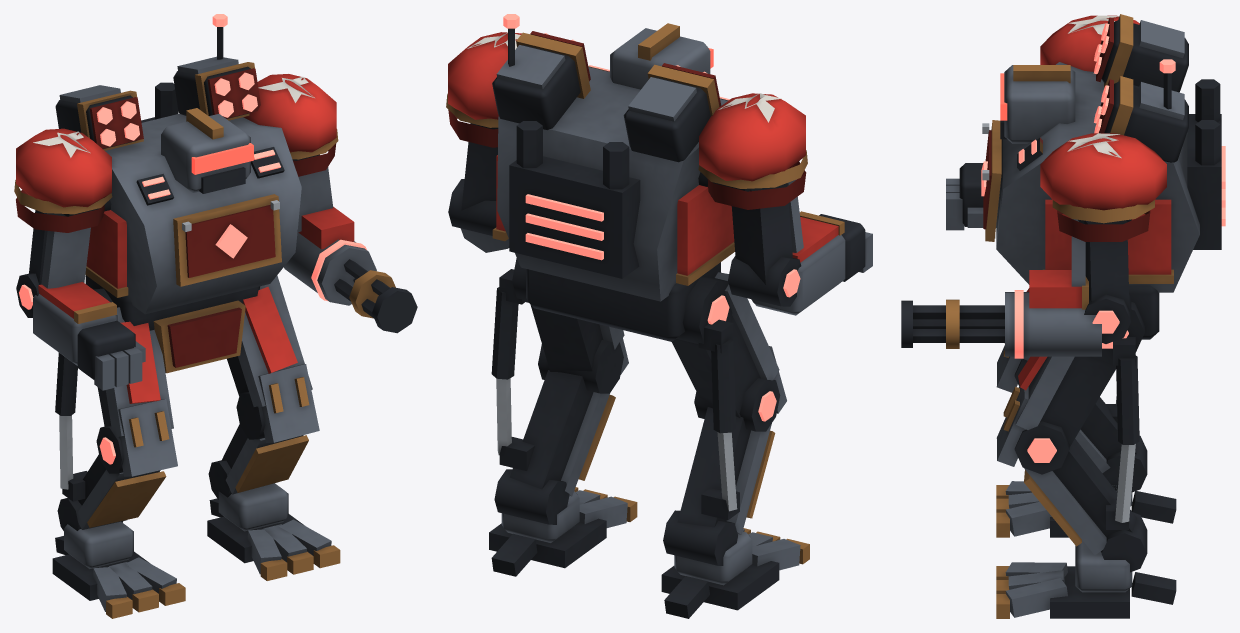
Rendered from mech_red.glb.
3 renders of one model, left to right at view 1: azimuth 30°, elevation 25°; view 2: azimuth 150°, elevation 25°; view 3: azimuth 270°, elevation 25°, orthographic. The views are drawn at different scales.
Parts seen in each view (by area): view 1: mech_red; view 2: mech_red; view 3: mech_red.
Part boxes in pixels (x1,y1,x2,y2): mech_red: (14,14,417,618); mech_red: (446,14,872,618); mech_red: (901,14,1225,618).
Size of the model in its own units: 0.339 by 0.518 by 0.2835.
Materials: 3 (1 with a texture image).
